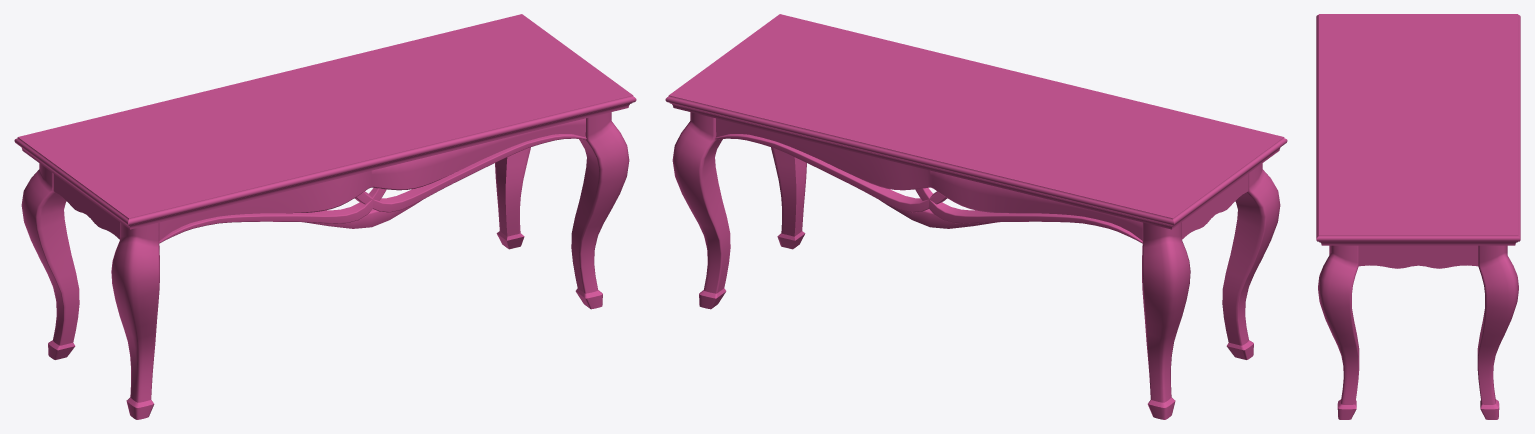
Rendered from Coffee_Table_Gen_1.fbx.
The picture shows the model from 3 angles, left to right: view 1: azimuth 30°, elevation 25°; view 2: azimuth 150°, elevation 25°; view 3: azimuth 270°, elevation 25°; orthographic projection. The views are drawn at different scales.
Parts seen in each view (by area): view 1: mesh_coffee_table_gen_1_01; view 2: mesh_coffee_table_gen_1_01; view 3: mesh_coffee_table_gen_1_01.
Boxes of the visible parts, <box> form: mesh_coffee_table_gen_1_01: <box>14,14,636,419</box>; mesh_coffee_table_gen_1_01: <box>665,14,1287,419</box>; mesh_coffee_table_gen_1_01: <box>1316,14,1520,419</box>.
Bounding box in the file's own units: 129 × 52.16 × 50.03.
